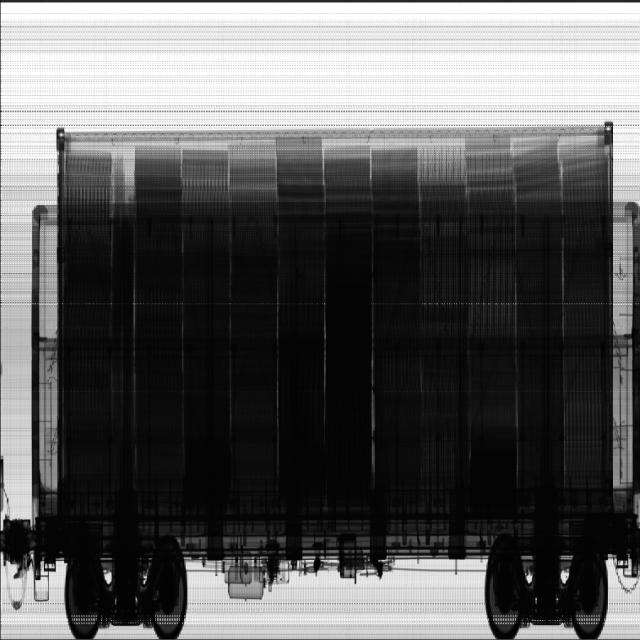fabrics: (512, 134, 608, 198)
